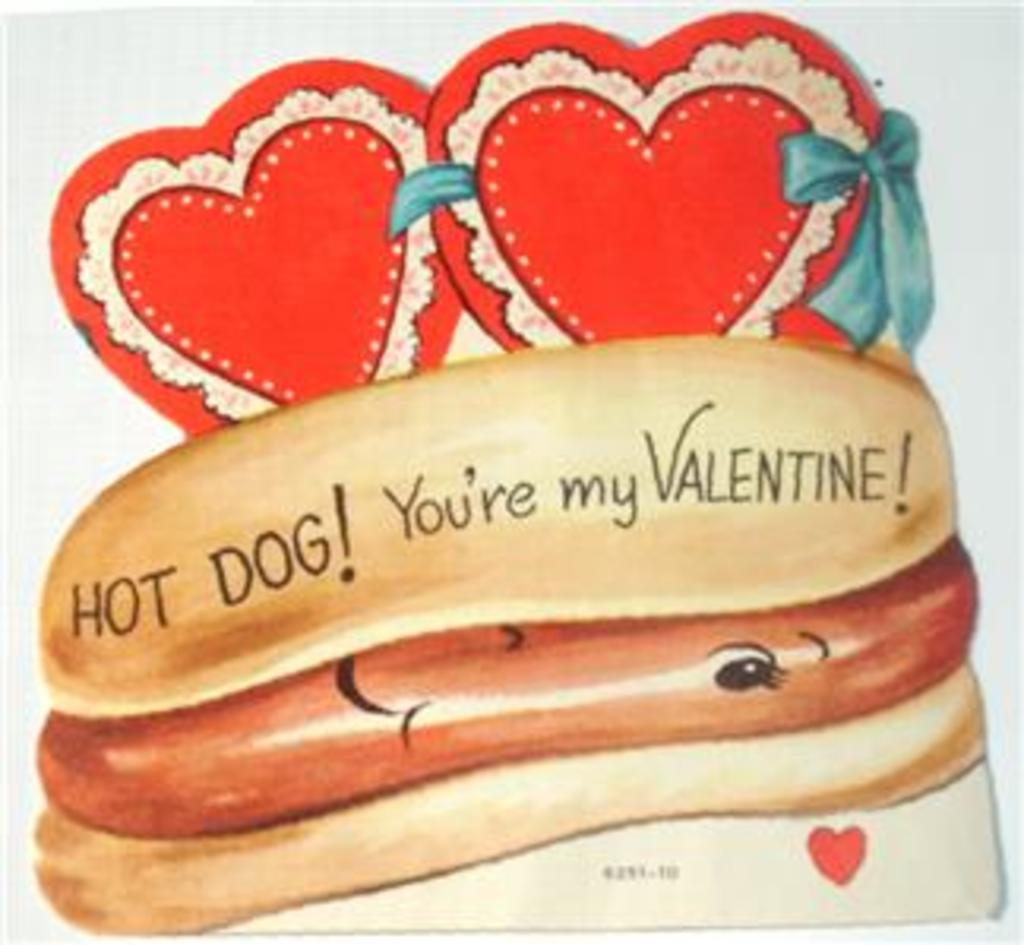hot_dog: (19, 313, 986, 942)
